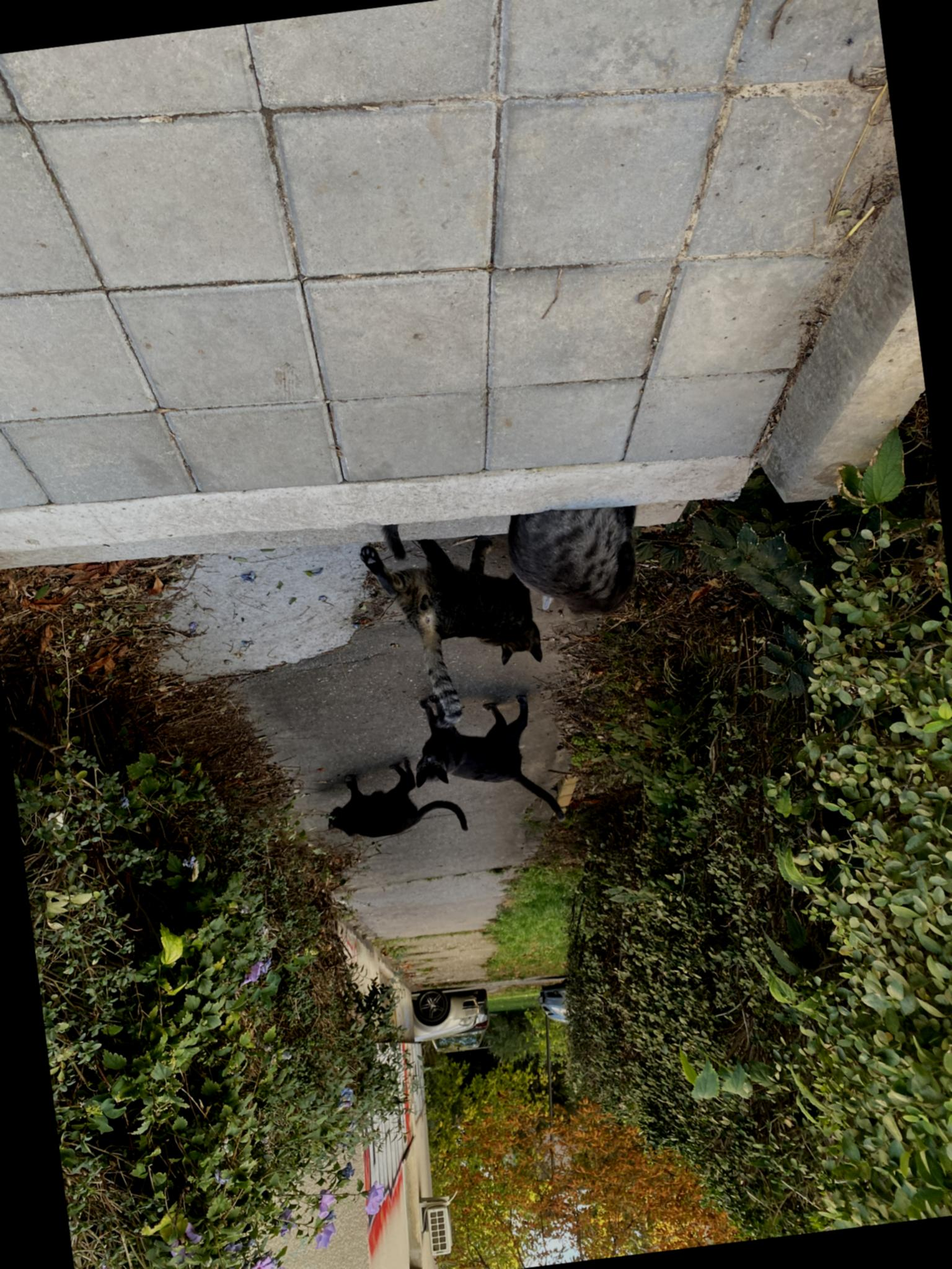macka: (358, 526, 551, 737), (405, 681, 567, 838), (504, 499, 648, 623), (321, 754, 469, 847)
